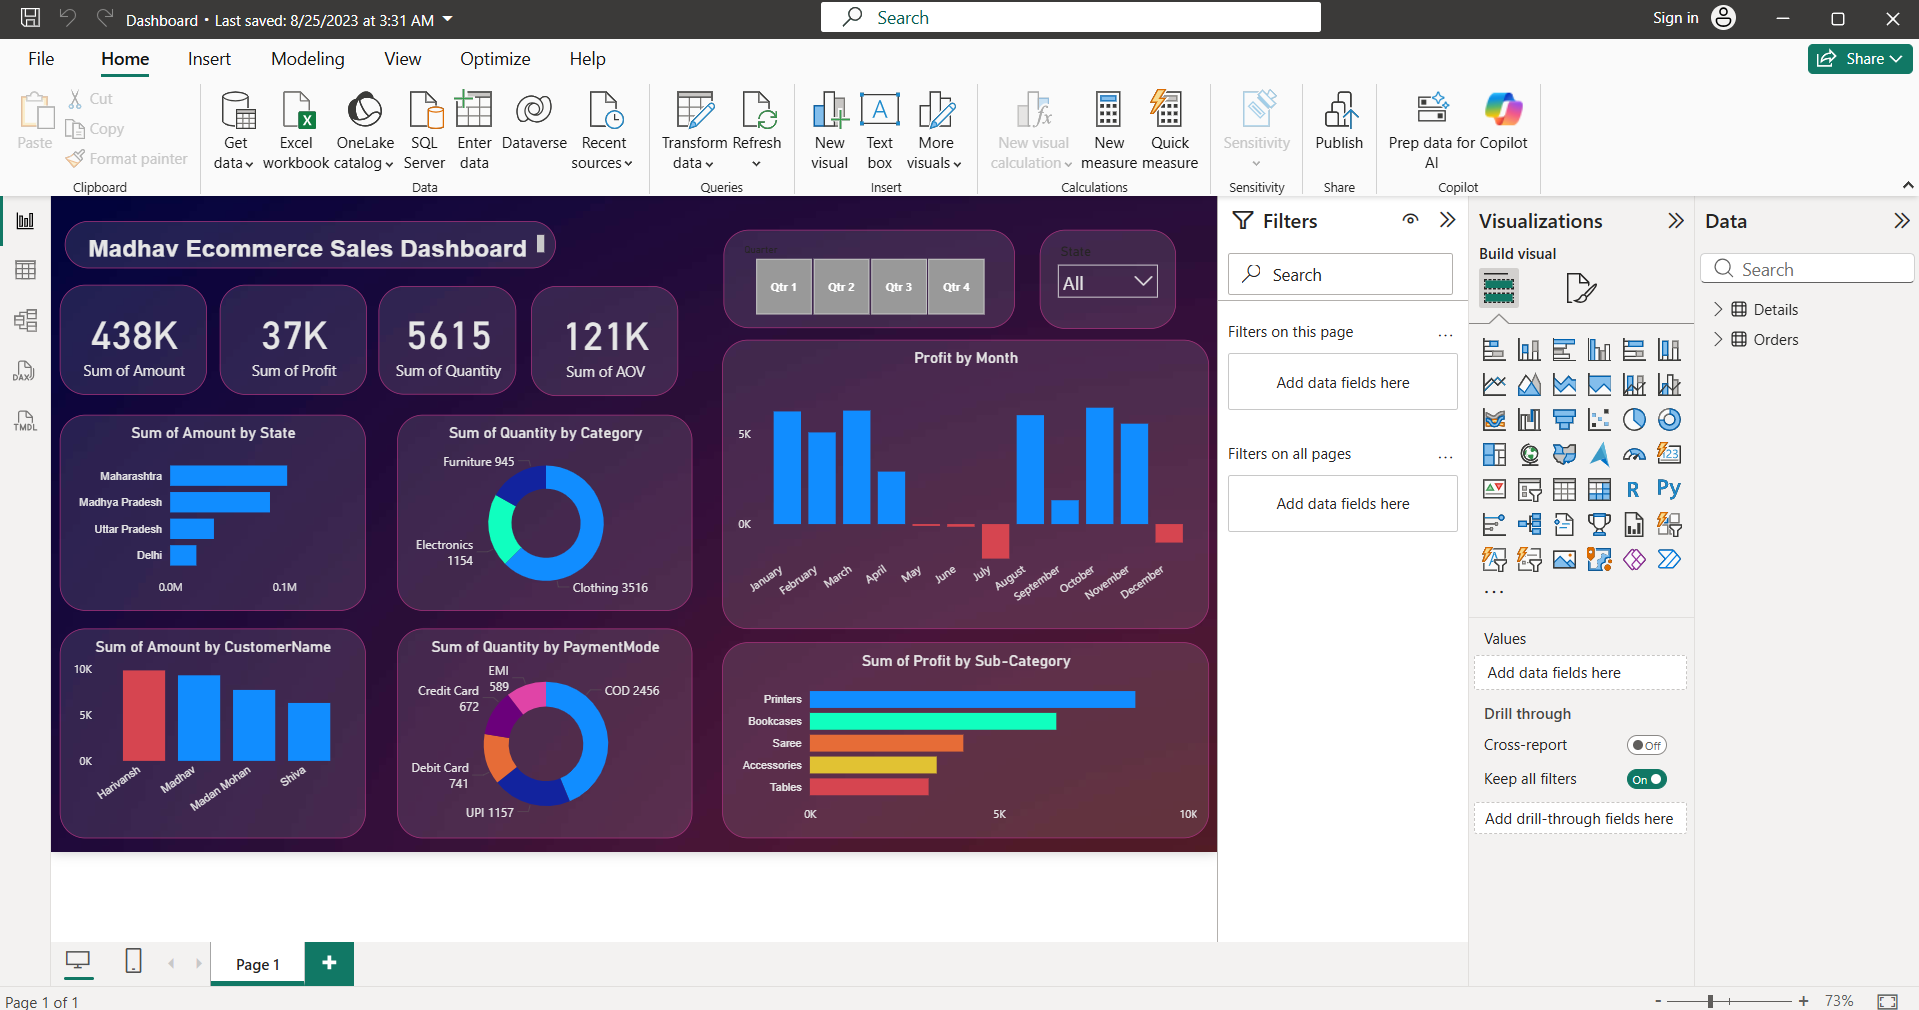

The page's visual inventory and layout, read from the dashboard file:
{"tool":"powerbi","page":{"name":"Page 1","canvas":[1280,720],"ordinal":0},"visuals":[{"type":"textbox","box":[15.1,26.9,539.2,52],"z":0},{"type":"columnChart","title":"Profit by Month","fields":{"Category":["Orders.Order Date.Variation.Date Hierarchy.Month"],"Y":["Sum(Details.Profit)"]},"box":[737.4,157.9,534.2,317.5],"z":1000},{"type":"barChart","fields":{"Category":["Details.Sub-Category"],"Y":["Sum(Details.Profit)"]},"box":[737.4,490.5,534.2,215],"z":2000},{"type":"donutChart","fields":{"Category":["Details.Category"],"Y":["Sum(Details.Quantity)"]},"box":[379.6,240.2,324.2,215],"z":3000},{"type":"donutChart","fields":{"Category":["Details.PaymentMode"],"Y":["Sum(Details.Quantity)"]},"box":[379.6,475.4,324.2,230.1],"z":4000},{"type":"card","fields":{"Values":["Sum(Details.Amount)"]},"box":[10.1,97.4,161.3,120.9],"z":5000},{"type":"card","fields":{"Values":["Sum(Details.Profit)"]},"box":[184.8,97.4,161.3,120.9],"z":6000},{"type":"card","fields":{"Values":["Sum(Details.Quantity)"]},"box":[359.5,99.1,151.2,119.3],"z":7000},{"type":"card","fields":{"Values":["Sum(Details.AOV)"]},"box":[527.5,99.1,161.3,120.9],"z":8000},{"type":"barChart","fields":{"Y":["Sum(Details.Amount)"],"Category":["Orders.State"]},"box":[10.1,240.2,336,215],"z":9000},{"type":"columnChart","fields":{"Category":["Orders.CustomerName"],"Y":["Sum(Details.Amount)"]},"box":[10.1,475.4,336,230.1],"z":10000},{"type":"slicer","fields":{"Values":["Orders.Order Date.Variation.Date Hierarchy.Quarter"]},"box":[738.2,37.2,320,108.4],"z":11000},{"type":"slicer","fields":{"Values":["Orders.State"]},"box":[1085.1,37,149.5,109.2],"z":12000}]}

Visuals, with their boxes on the page's 1280x720 design canvas (x1, y1, x2, y2). These are canvas units, not pixel positions in the 1919x1010 screenshot, which may show the page scaled, cropped or inside an application window:
textbox: box=[15, 27, 554, 79]
"Profit by Month" columnChart: box=[737, 158, 1272, 475]
barChart - Details.Sub-Category x Sum(Details.Profit): box=[737, 490, 1272, 706]
donutChart - Details.Category x Sum(Details.Quantity): box=[380, 240, 704, 455]
donutChart - Details.PaymentMode x Sum(Details.Quantity): box=[380, 475, 704, 706]
card - Sum(Details.Amount): box=[10, 97, 171, 218]
card - Sum(Details.Profit): box=[185, 97, 346, 218]
card - Sum(Details.Quantity): box=[360, 99, 511, 218]
card - Sum(Details.AOV): box=[528, 99, 689, 220]
barChart - Sum(Details.Amount) x Orders.State: box=[10, 240, 346, 455]
columnChart - Orders.CustomerName x Sum(Details.Amount): box=[10, 475, 346, 706]
slicer - Orders.Order Date.Variation.Date Hierarchy.Quarter: box=[738, 37, 1058, 146]
slicer - Orders.State: box=[1085, 37, 1235, 146]
